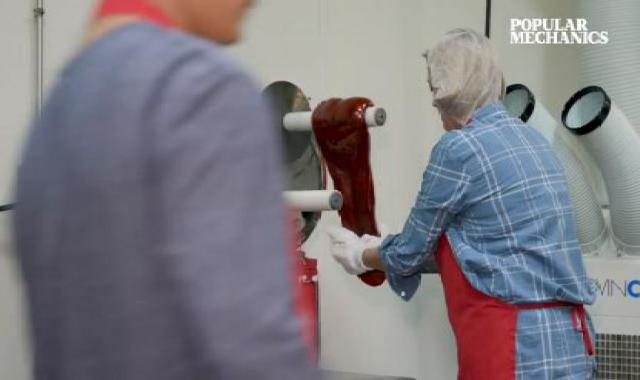hairnet: (423, 23, 531, 122)
